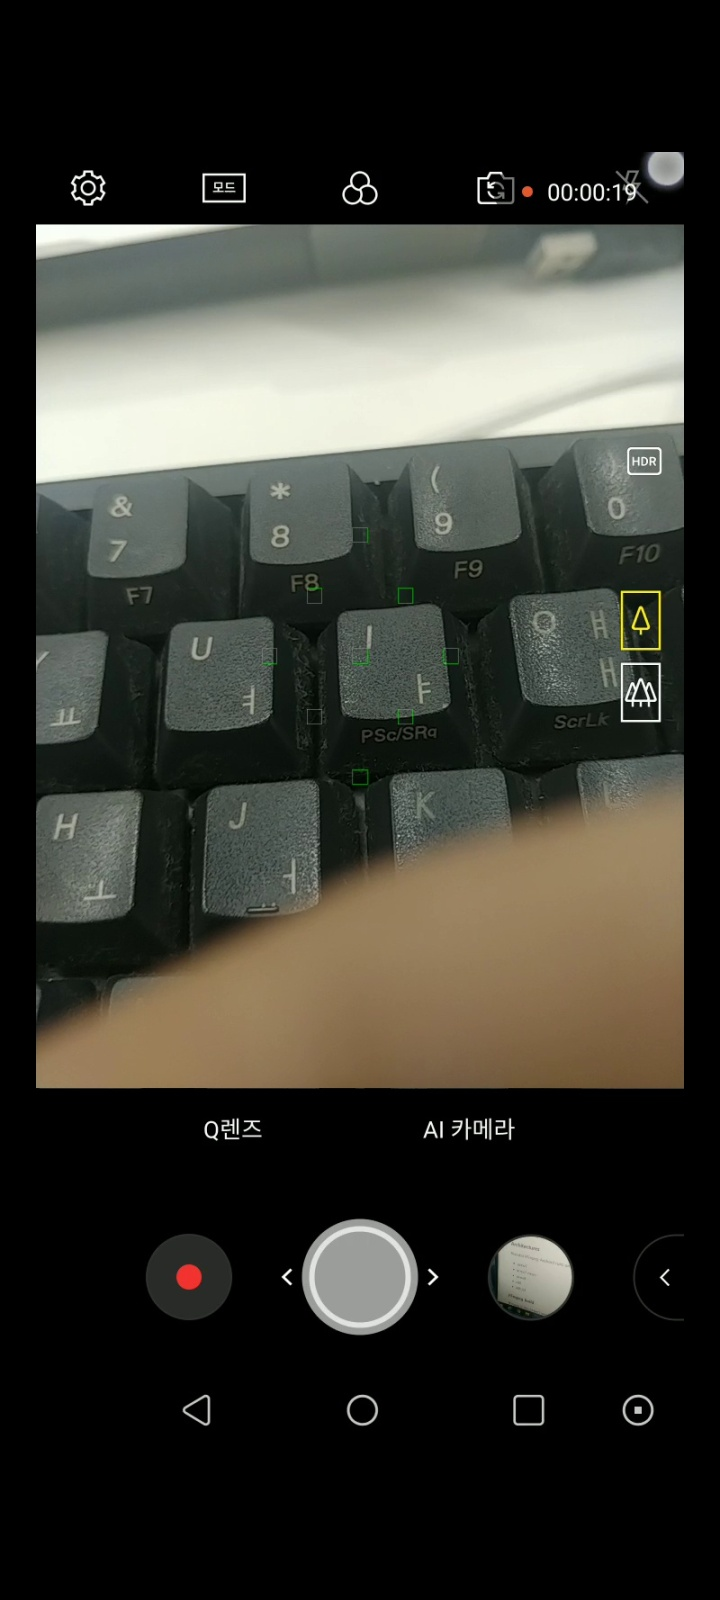Cursor: (647, 153, 684, 189)
